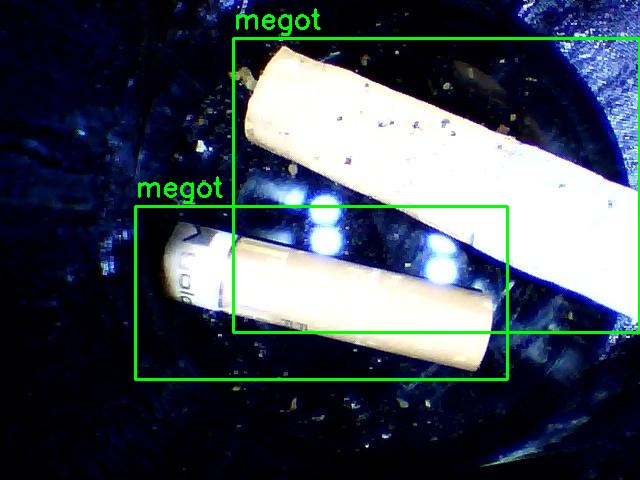megot: (233, 38, 639, 332), (135, 206, 507, 379)
